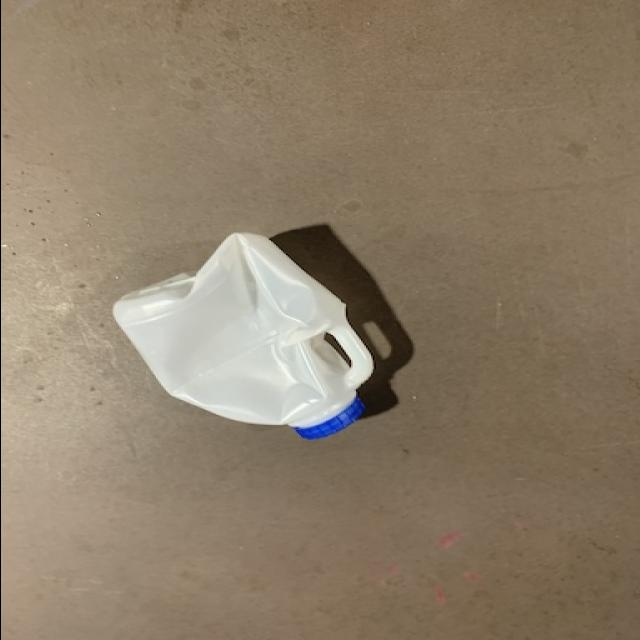HDPEM: (105, 230, 373, 446)
